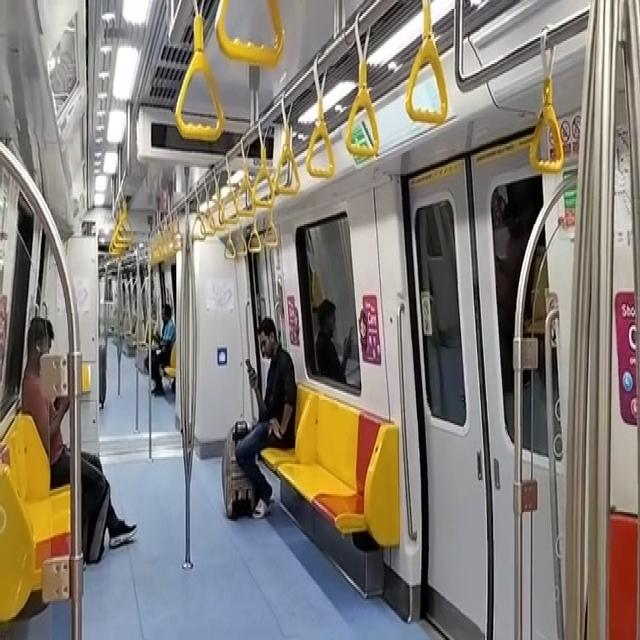bus-door: (405, 144, 566, 640)
